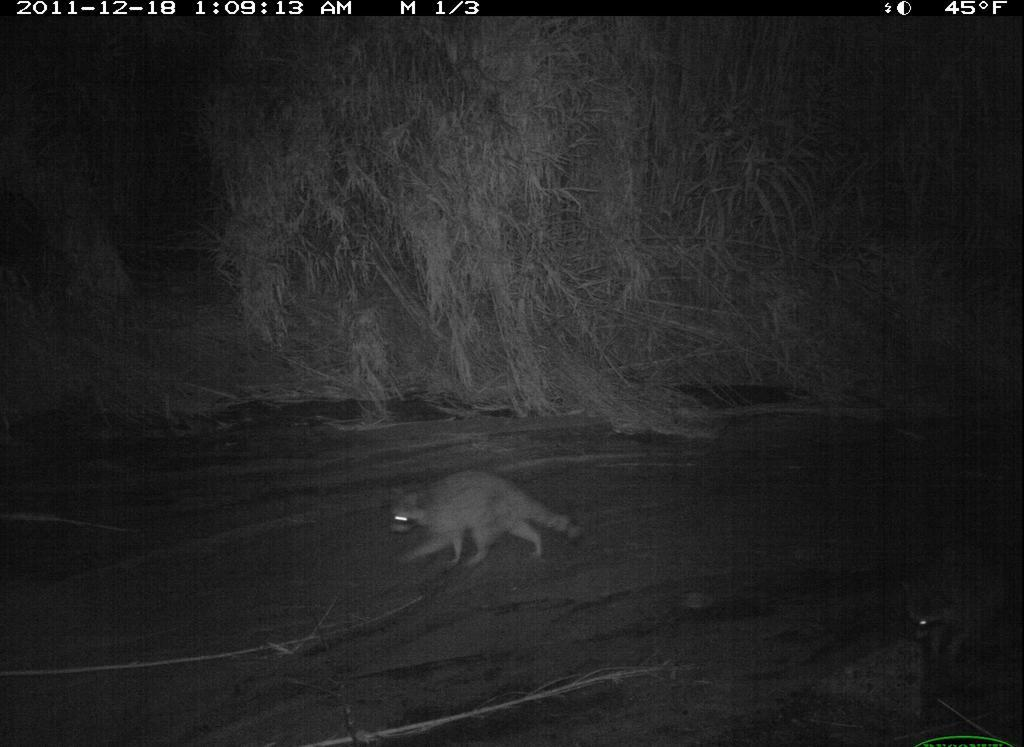raccoon: (377, 463, 593, 580)
